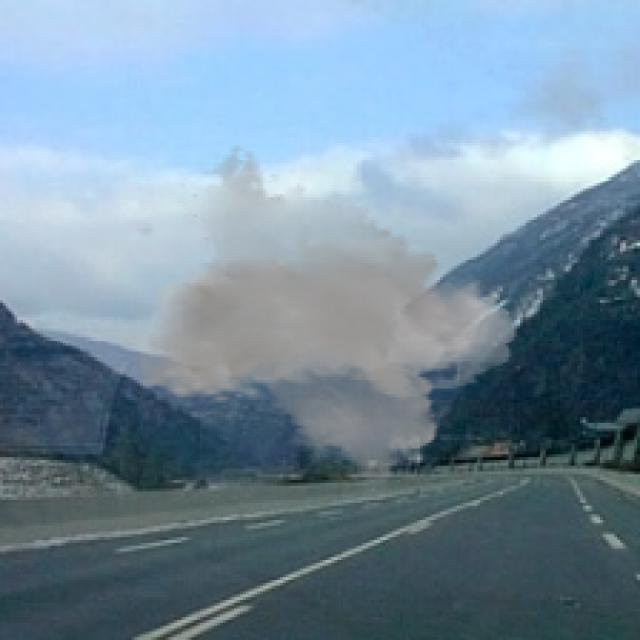Smoke: (134, 142, 517, 494)
